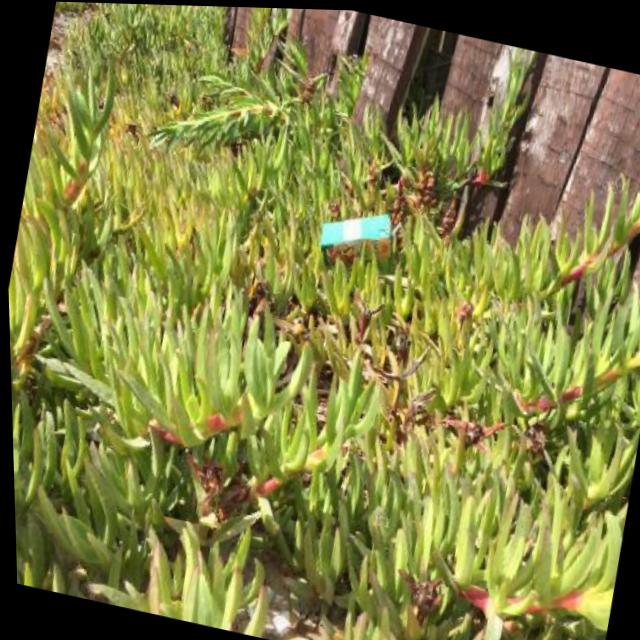cardboard: (314, 199, 401, 281)
